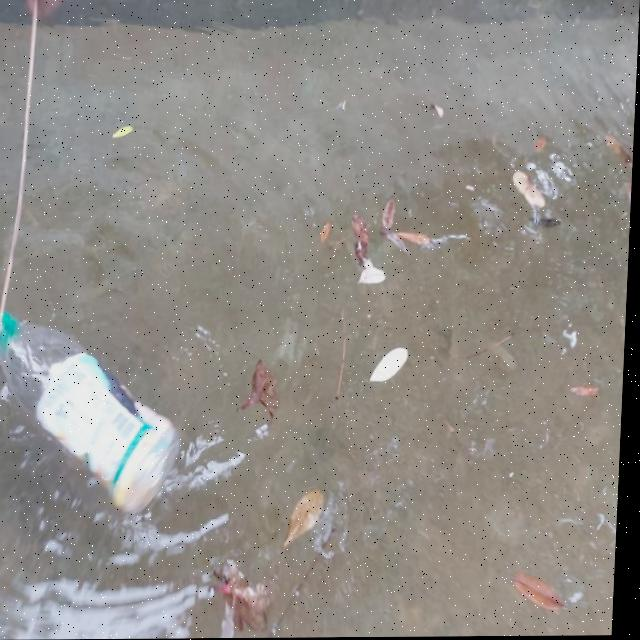waterbottle: (0, 305, 182, 519)
